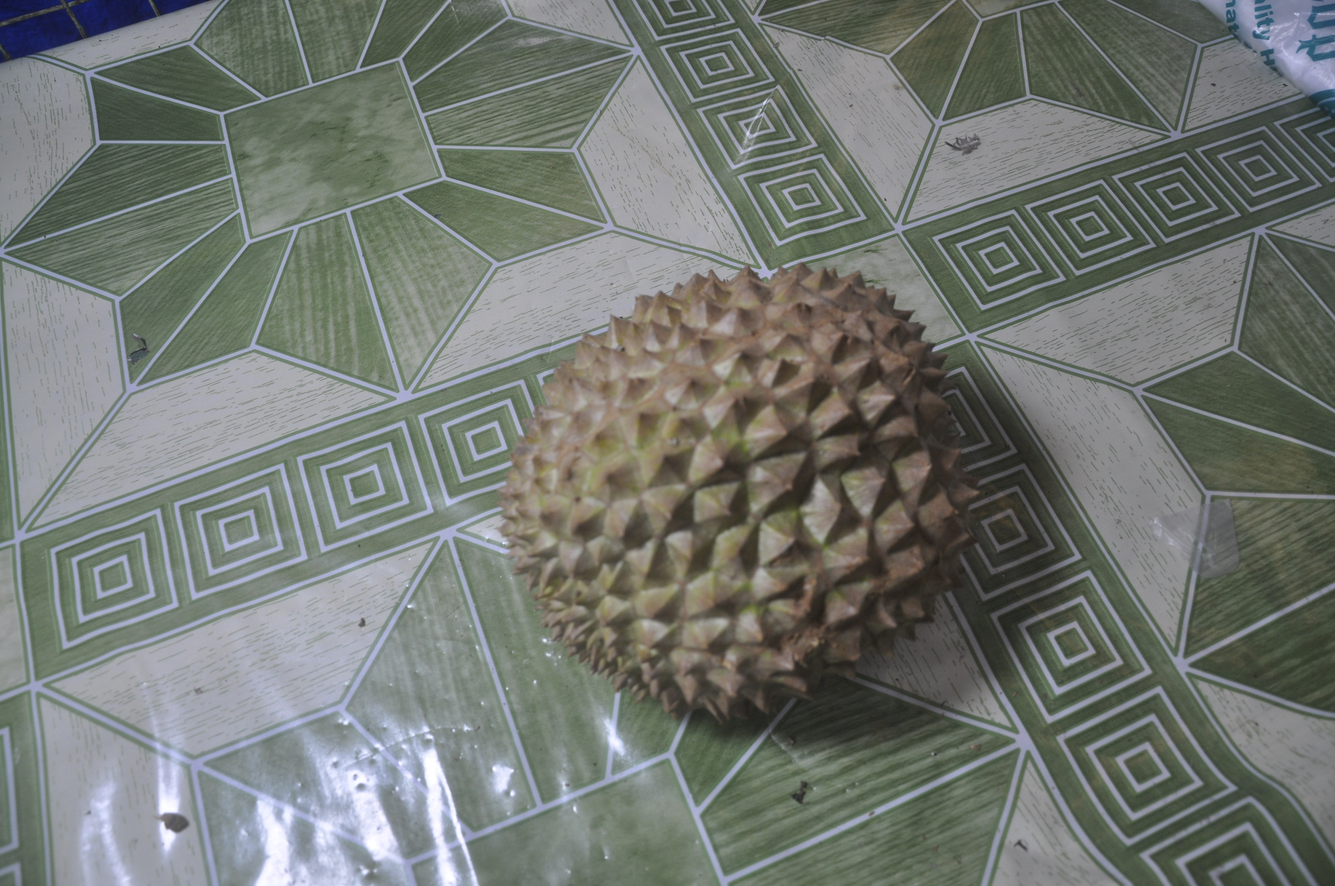mature: (501, 265, 977, 720)
